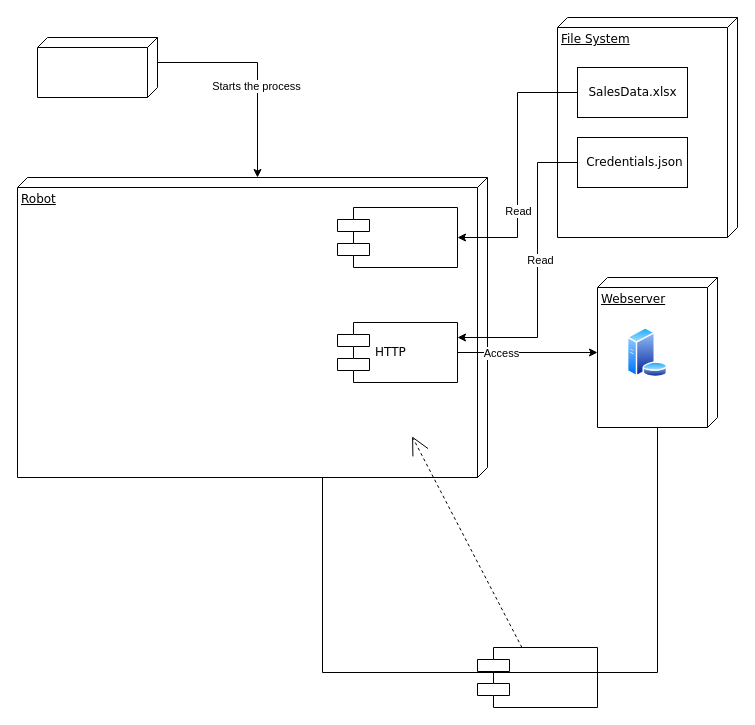
This 755x725 diagram has some shape labels left out. Here are the shapes that lost their labels. From the top down, the centre of each, then its label:
At point 97,67: "User".
At point 397,237: "Excel".
At point 537,677: "Module".
